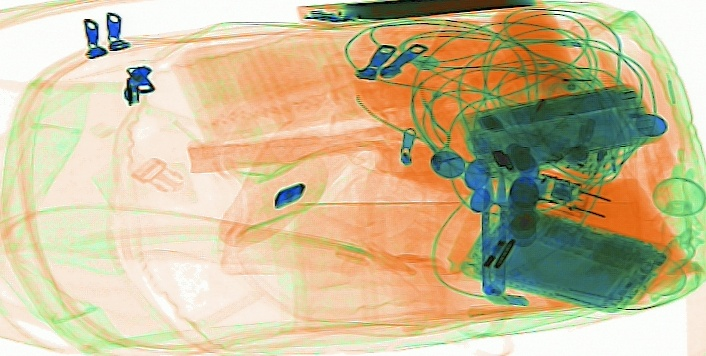scissors: (477, 162, 510, 297)
